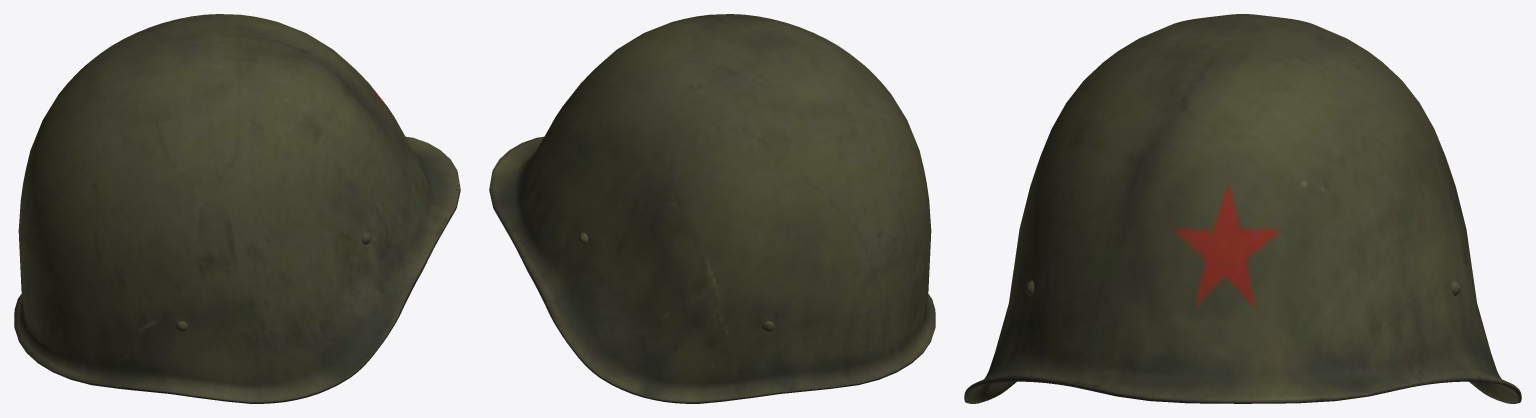
File: uploads_files_642451_SovietHelmet.fbx
3 renders of one model, left to right at view 1: azimuth 30°, elevation 25°; view 2: azimuth 150°, elevation 25°; view 3: azimuth 270°, elevation 25°, orthographic. The views are drawn at different scales.
Parts seen in each view (by area): view 1: SovietHelmet_MSH; view 2: SovietHelmet_MSH; view 3: SovietHelmet_MSH.
Part boxes in pixels (x1,y1,x2,y2): SovietHelmet_MSH: [14, 14, 460, 403]; SovietHelmet_MSH: [489, 14, 935, 403]; SovietHelmet_MSH: [964, 14, 1521, 403].
Bounding box in the file's own units: 28.11 × 19.43 × 26.37.
